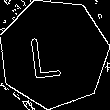L_N: (35, 27, 72, 80)
